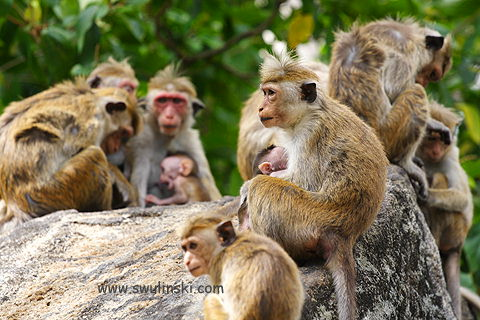Monkey: (238, 49, 396, 263), (178, 209, 318, 320), (136, 65, 229, 212)
